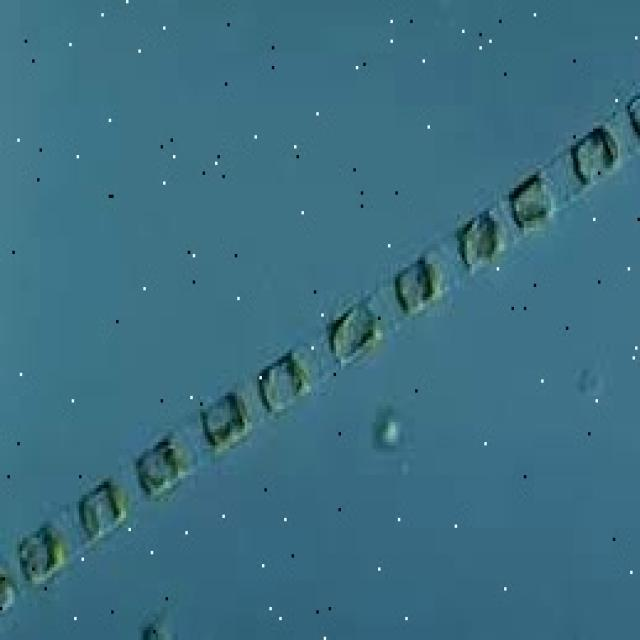Skeletonema: (8, 88, 638, 632)
